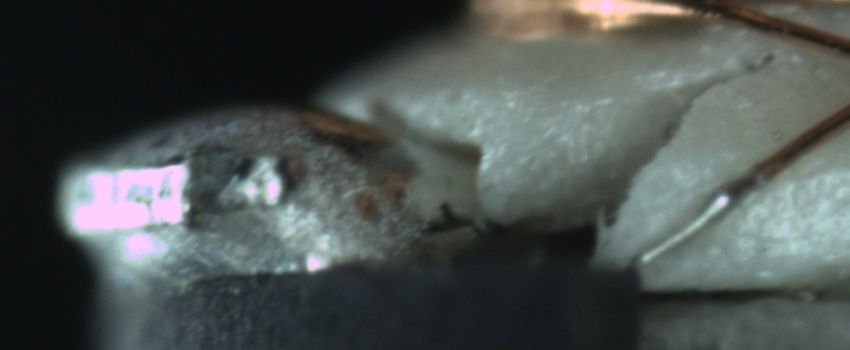DL: (313, 65, 664, 129)
TS: (629, 168, 760, 273)
TTCW: (626, 146, 790, 277)
